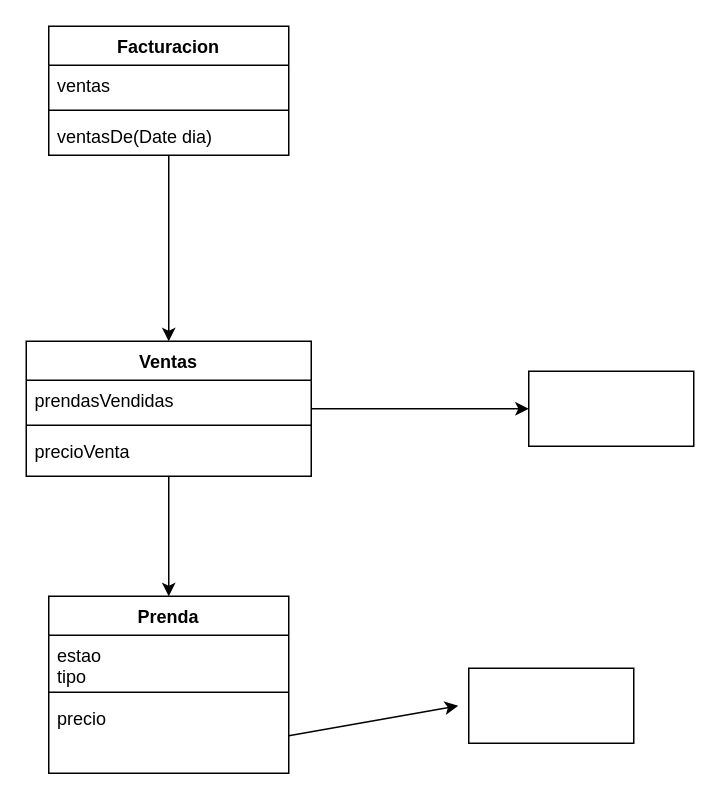
Image size: 720x804. Some labels were removed from this diagram. Here are the shapes that lost their labels. From the top down, the box of each, then its label:
(527, 370, 694, 446): tipoDeVenta
(467, 667, 634, 743): estado
